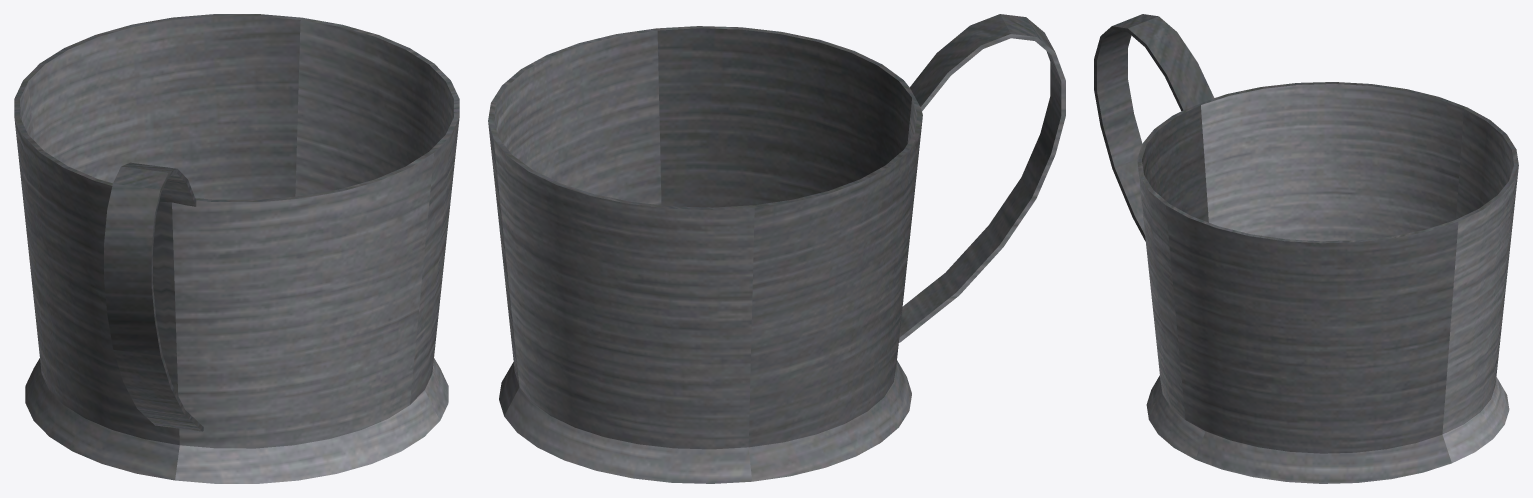
File: cup_holder.glb
3 views of the same model, side by side, from view 1: azimuth 30°, elevation 25°; view 2: azimuth 150°, elevation 25°; view 3: azimuth 270°, elevation 25° (orthographic). The views are drawn at different scales.
Visible parts, largest first — view 1: CupHolderMesh; view 2: CupHolderMesh; view 3: CupHolderMesh.
Boxes of the visible parts, <box> form: CupHolderMesh: <box>14,14,459,483</box>; CupHolderMesh: <box>488,14,1065,483</box>; CupHolderMesh: <box>1094,14,1518,483</box>.
Bounding box in the file's own units: 0.0745 × 0.0564 × 0.0721.
Materials: 1 (1 with a texture image).
